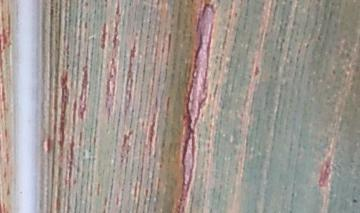tarspot: (352, 198, 359, 204), (64, 63, 70, 69)
